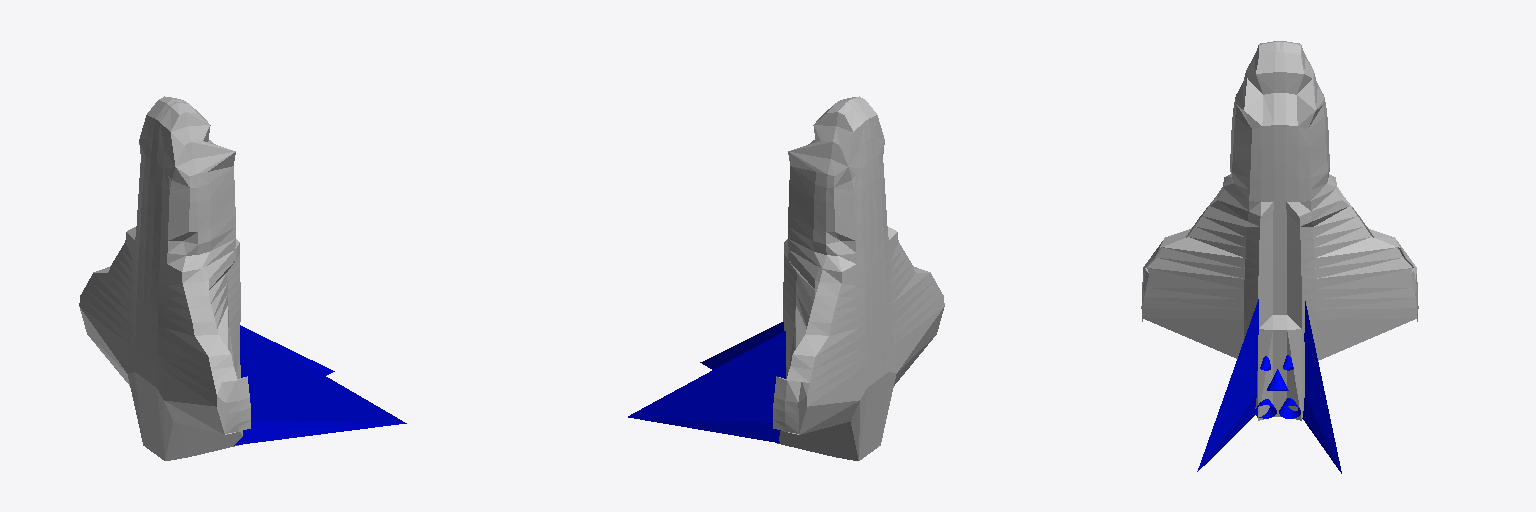
File: atlantis-orbiter.obj
3 renders of one model, left to right at view 1: azimuth 30°, elevation 25°; view 2: azimuth 150°, elevation 25°; view 3: azimuth 270°, elevation 25°, orthographic.
Visible parts, largest first — view 1: pCube2, pCube3; view 2: pCube2, pCube5, pCube3; view 3: pCube2, pCube3, pCube5.
Part boxes in pixels (x1,y1,x2,y2): pCube2: (79, 96, 250, 460); pCube3: (234, 326, 406, 445); pCube2: (773, 96, 944, 460); pCube5: (628, 331, 785, 442); pCube3: (700, 322, 783, 369); pCube2: (1141, 41, 1418, 420); pCube3: (1197, 299, 1258, 471); pCube5: (1302, 301, 1341, 473).
Size of the model in its own units: 22.52 by 34.04 by 24.46.